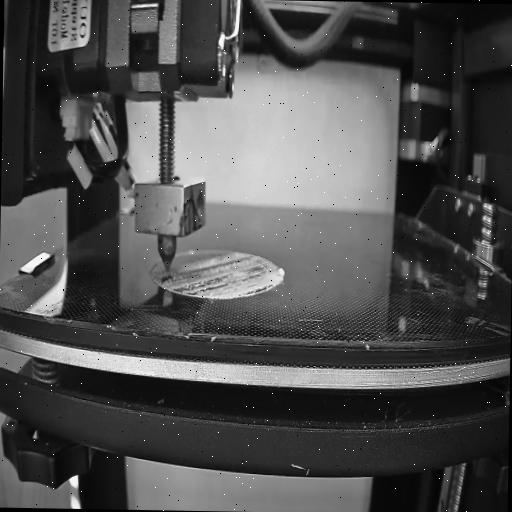under_extrusion: (158, 257, 244, 298), (244, 261, 274, 298)
